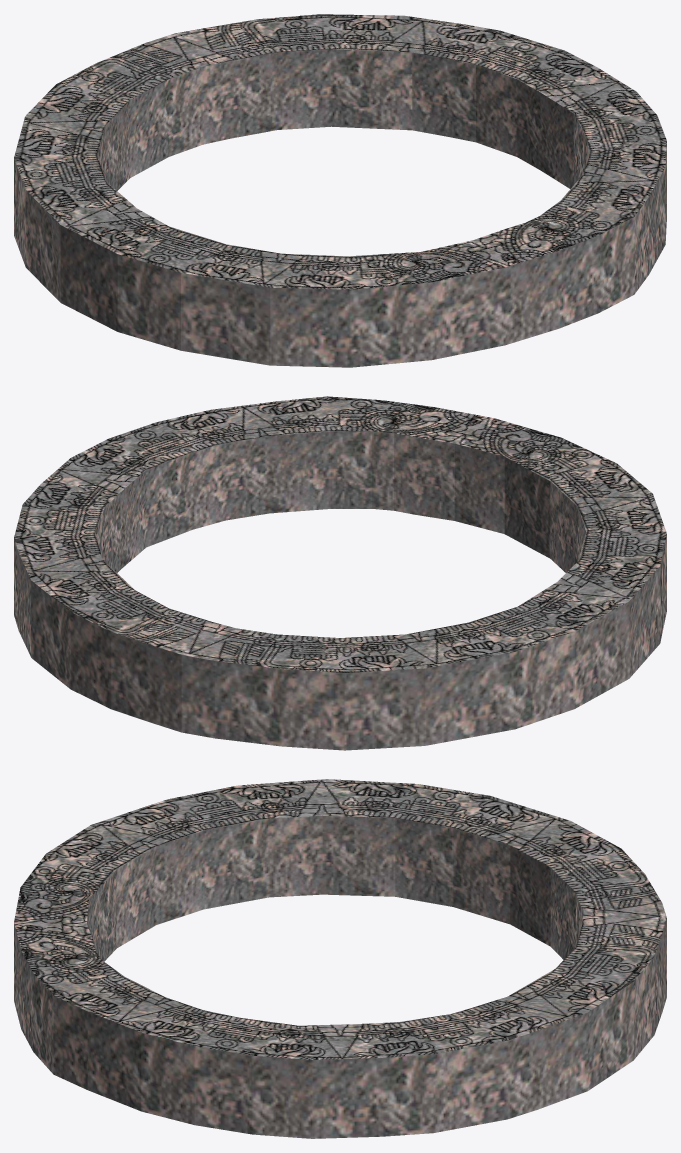
The model's file is aro567.fbx.
3 views of the same model, one above another, from view 1: azimuth 30°, elevation 25°; view 2: azimuth 150°, elevation 25°; view 3: azimuth 270°, elevation 25° (orthographic).
Parts seen in each view (by area): view 1: Plano.001; view 2: Plano.001; view 3: Plano.001.
Part boxes in pixels (x1,y1,x2,y2): Plano.001: (14, 14, 666, 367); Plano.001: (14, 396, 666, 750); Plano.001: (14, 779, 666, 1138).
Bounding box in the file's own units: 212 × 27.78 × 208.
